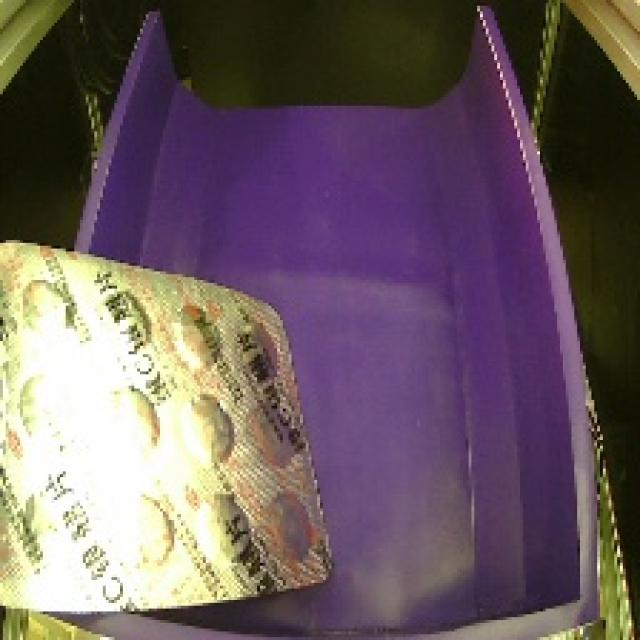med_plate: (0, 230, 350, 629)
